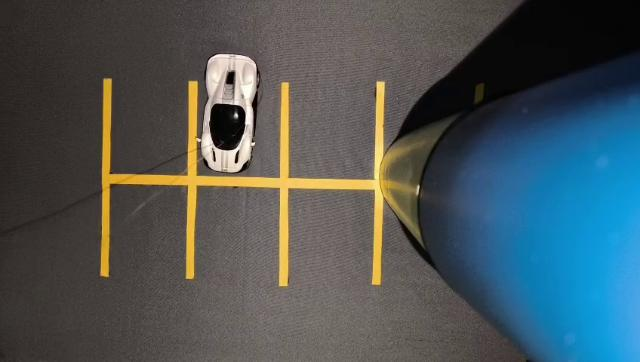toy_car: (174, 39, 286, 185)
